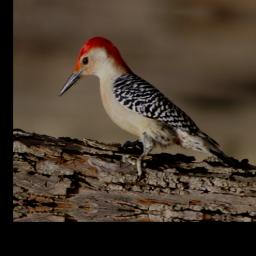Woodpecker: (53, 29, 248, 192)
